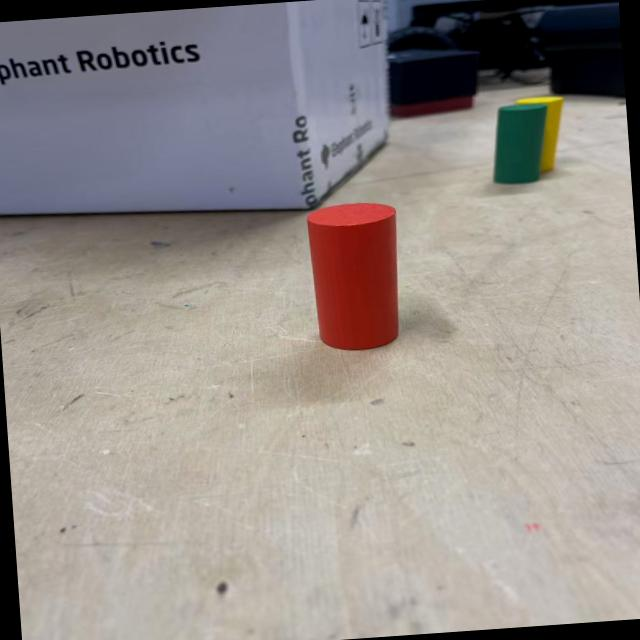red_cylinder: (304, 199, 406, 353)
